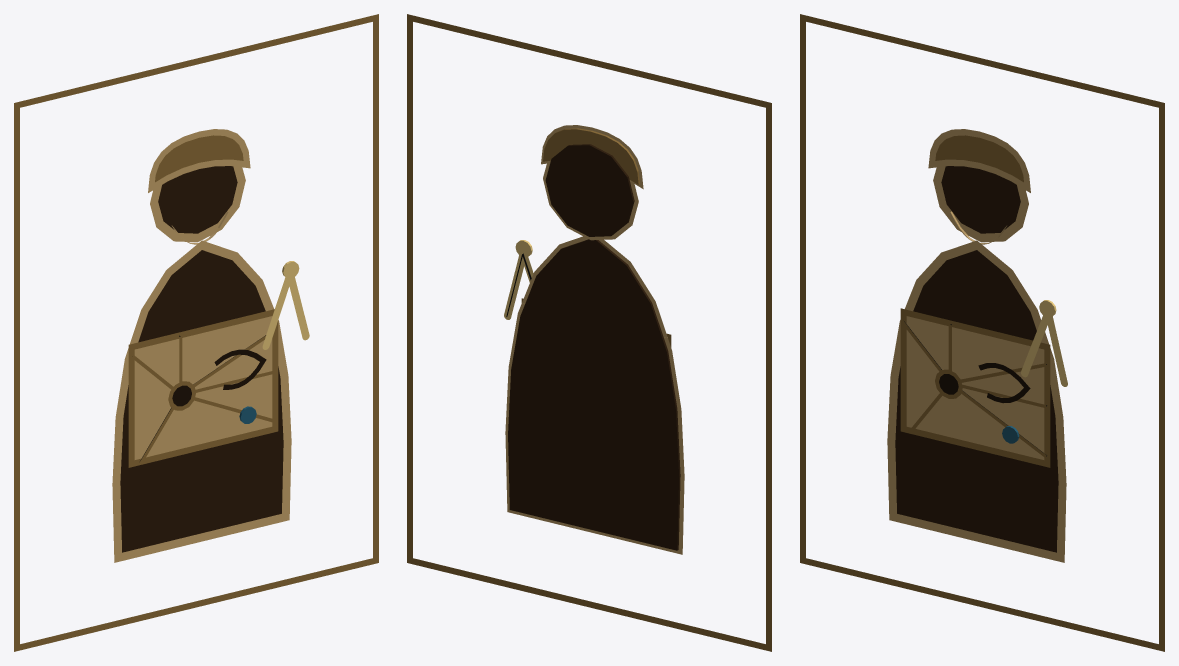
Rendered from npc-kartograf-kreskes.glb.
3 renders of one model, left to right at view 1: azimuth 30°, elevation 25°; view 2: azimuth 150°, elevation 25°; view 3: azimuth 330°, elevation 25°, orthographic.
Parts seen in each view (by area): view 1: npc-kartograf-kreskes; view 2: npc-kartograf-kreskes; view 3: npc-kartograf-kreskes.
Part boxes in pixels (x1,y1,x2,y2): npc-kartograf-kreskes: (14, 14, 378, 651); npc-kartograf-kreskes: (407, 14, 771, 651); npc-kartograf-kreskes: (800, 14, 1164, 651).
Size of the model in its own units: 1.14 by 1.64 by 0.0825.
